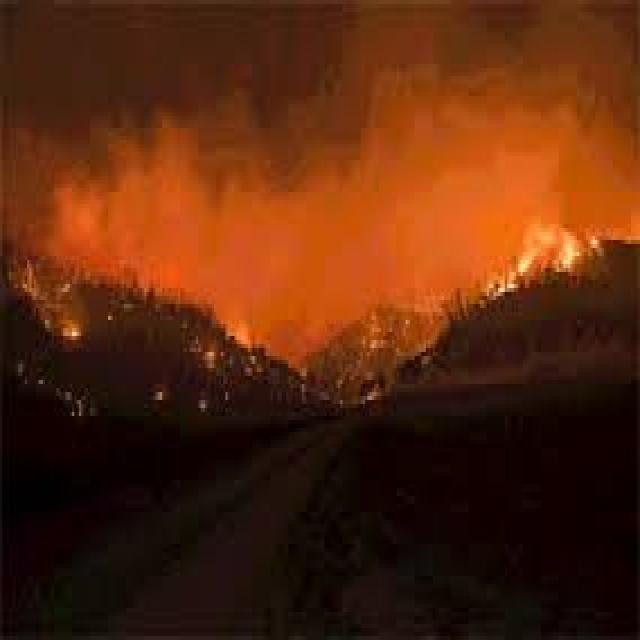Fire: (489, 220, 608, 286), (46, 318, 85, 348), (230, 318, 252, 361)
Smoke: (28, 0, 640, 361)
